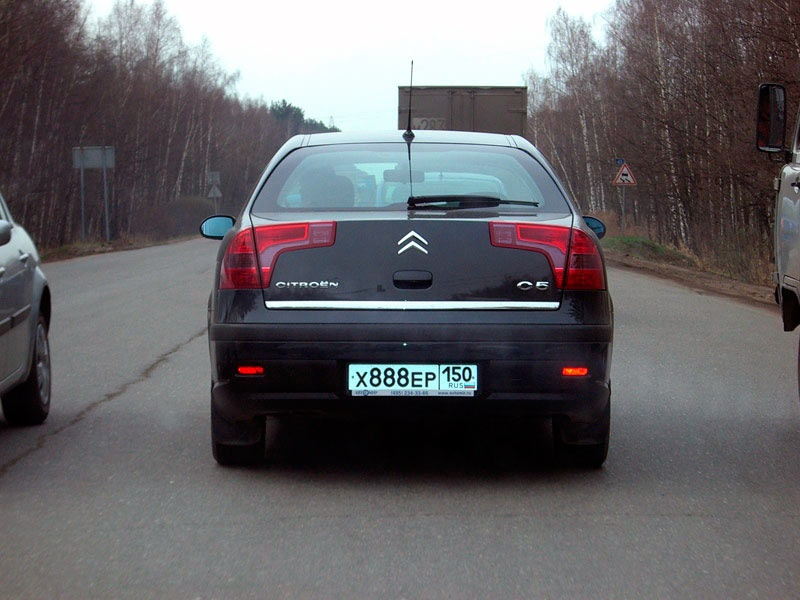car: (200, 131, 615, 468), (1, 192, 52, 423)
plate: (348, 365, 476, 390)
